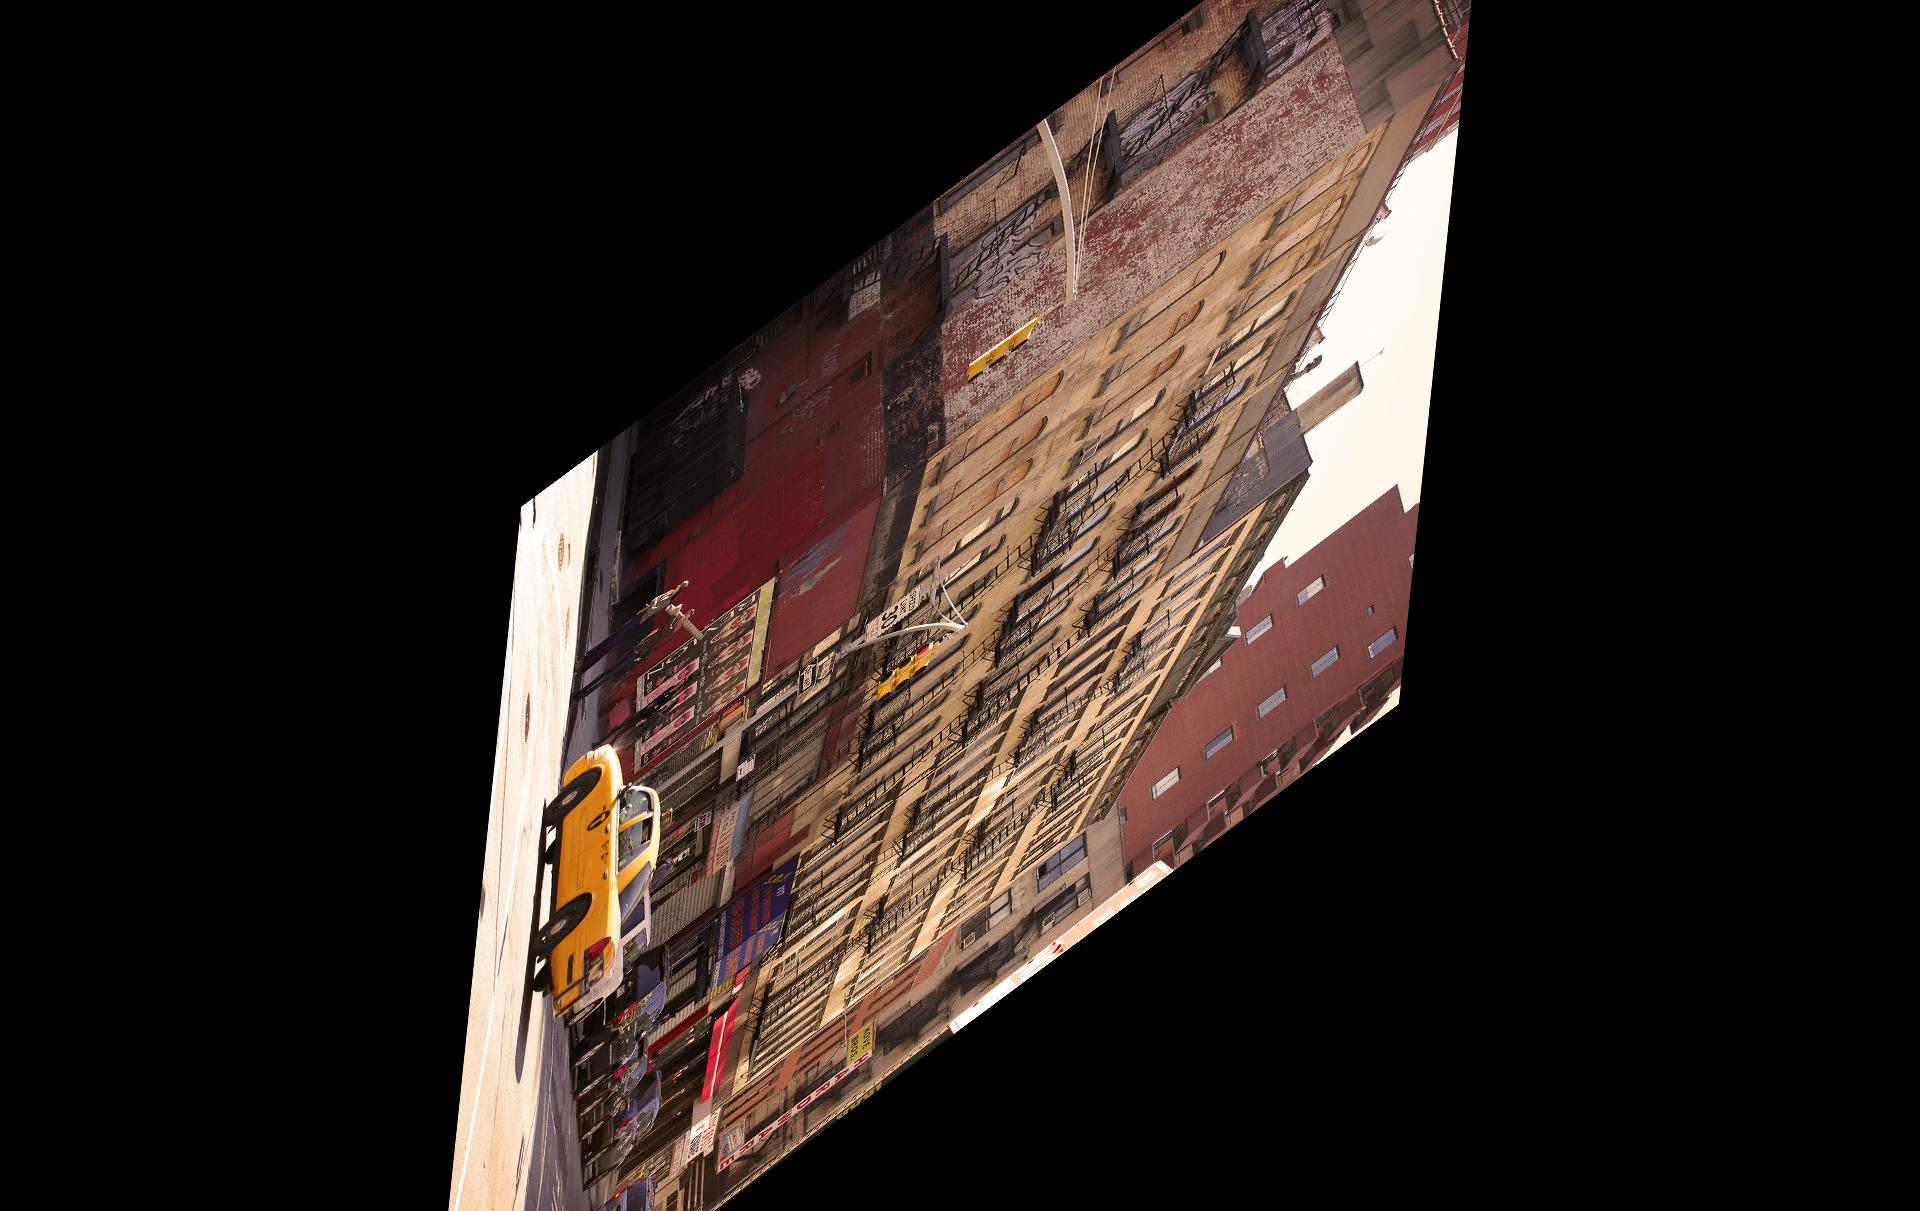taxi: (553, 760, 632, 1016)
